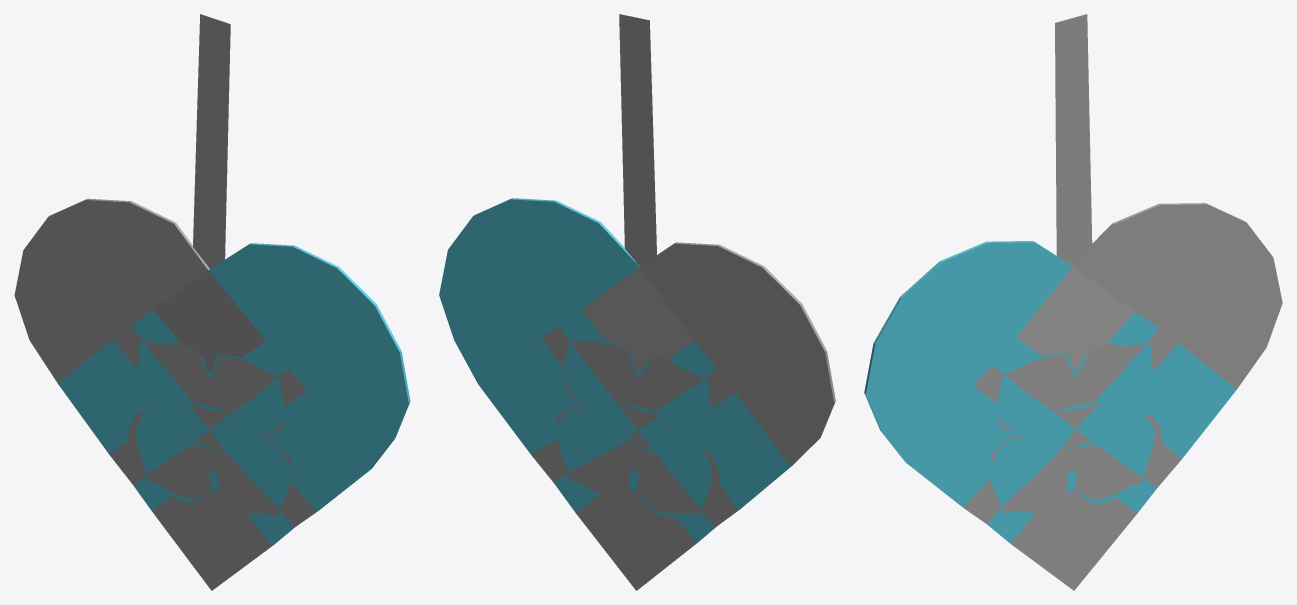
File: heart23.glb
3 renders of one model, left to right at view 1: azimuth 30°, elevation 25°; view 2: azimuth 210°, elevation 25°; view 3: azimuth 270°, elevation 25°, orthographic.
Visible parts, largest first — view 1: heart23; view 2: heart23; view 3: heart23.
Boxes of the visible parts, left/top/right/bottom form: heart23: left=14, top=14, right=410, bottom=590; heart23: left=439, top=14, right=835, bottom=590; heart23: left=864, top=14, right=1282, bottom=590.
Size of the model in its own units: 0.0636 by 0.1842 by 0.1218.
